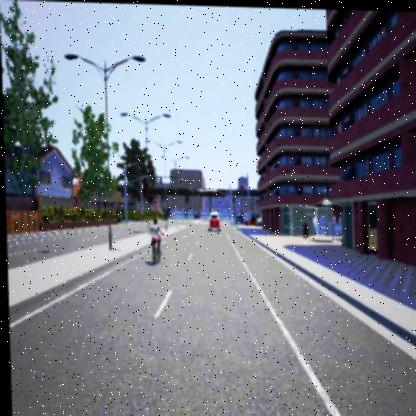bike: (146, 217, 163, 263)
vehicle: (207, 209, 218, 229)
